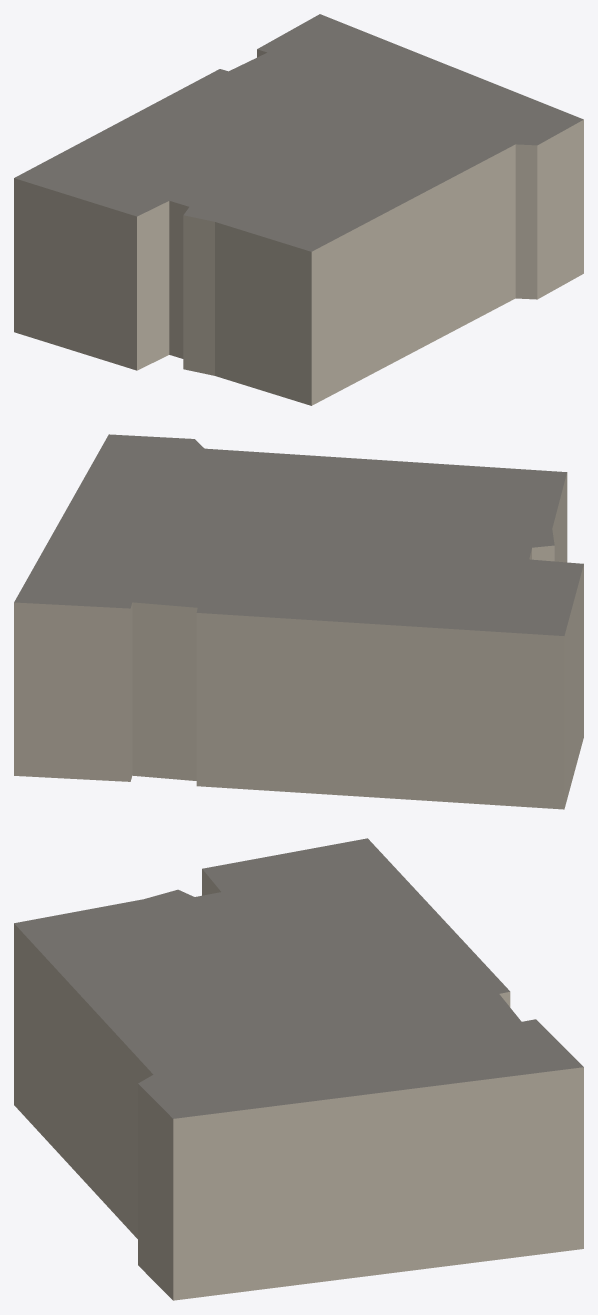
3 views of the same model, one above another, from view 1: azimuth 30°, elevation 25°; view 2: azimuth 150°, elevation 25°; view 3: azimuth 270°, elevation 25° (orthographic). The views are drawn at different scales.
Visible parts, largest first — view 1: HP-w1515076983; view 2: HP-w1515076983; view 3: HP-w1515076983.
Boxes of the visible parts, <box> form: HP-w1515076983: <box>14,14,583,405</box>; HP-w1515076983: <box>14,434,583,809</box>; HP-w1515076983: <box>14,838,583,1300</box>.
Bounding box in the file's own units: 59.59 × 18 × 51.16.
